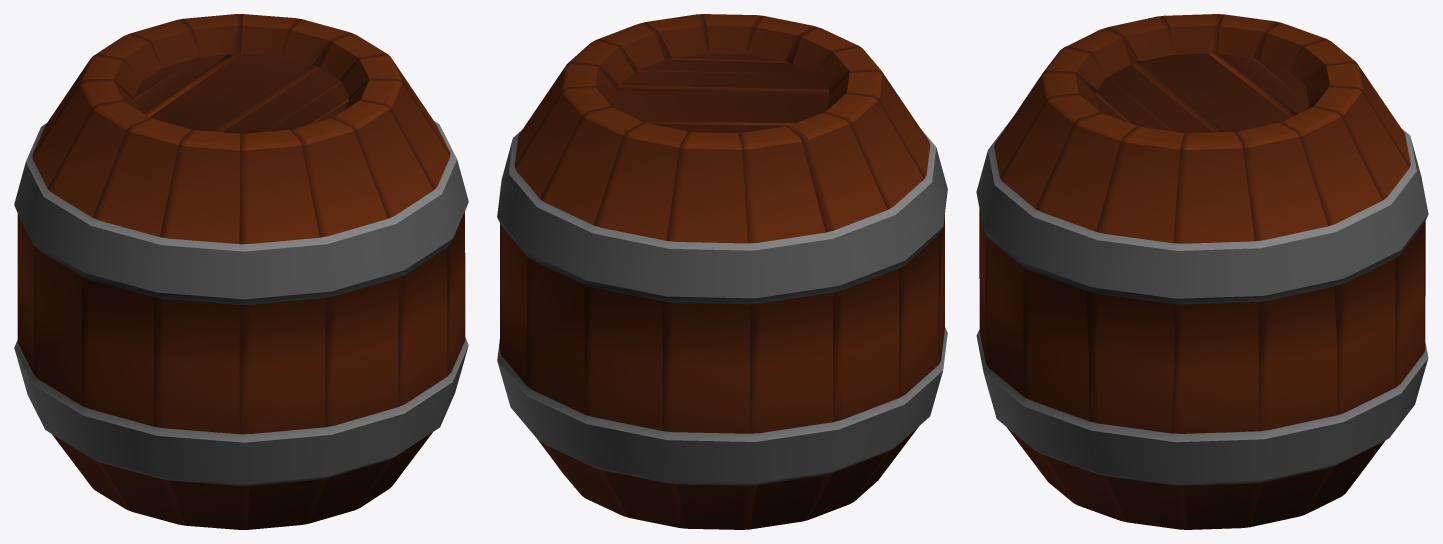
The model's file is Barrel_VC.fbx.
3 views of the same model, side by side, from view 1: azimuth 30°, elevation 25°; view 2: azimuth 150°, elevation 25°; view 3: azimuth 270°, elevation 25° (orthographic).
Visible parts, largest first — view 1: 1_Barrel; view 2: 1_Barrel; view 3: 1_Barrel.
Boxes of the visible parts, bbox=[...] form: 1_Barrel: bbox=[14, 14, 468, 529]; 1_Barrel: bbox=[497, 14, 947, 529]; 1_Barrel: bbox=[976, 14, 1428, 529].
Size of the model in its own units: 0.3965 by 0.3701 by 0.3965.
